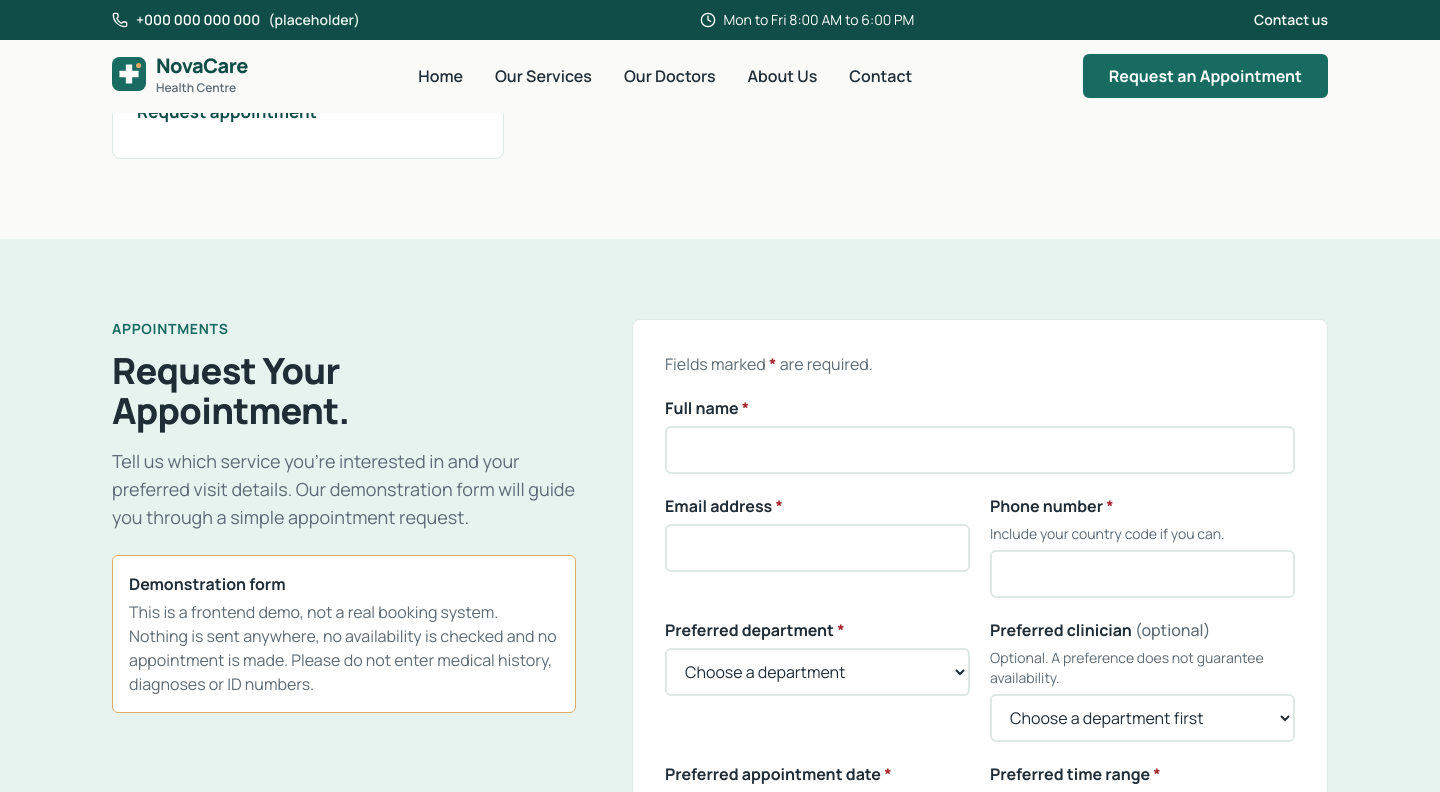
Test case: appointment form › shows inline errors and keeps entered data
The width and height of the screenshot is (1440, 792).
(page scrolled)
Type "Jane Demo" into the field labelled "Full name *" at (980, 450), box [665, 426, 1295, 474]
(page scrolled)
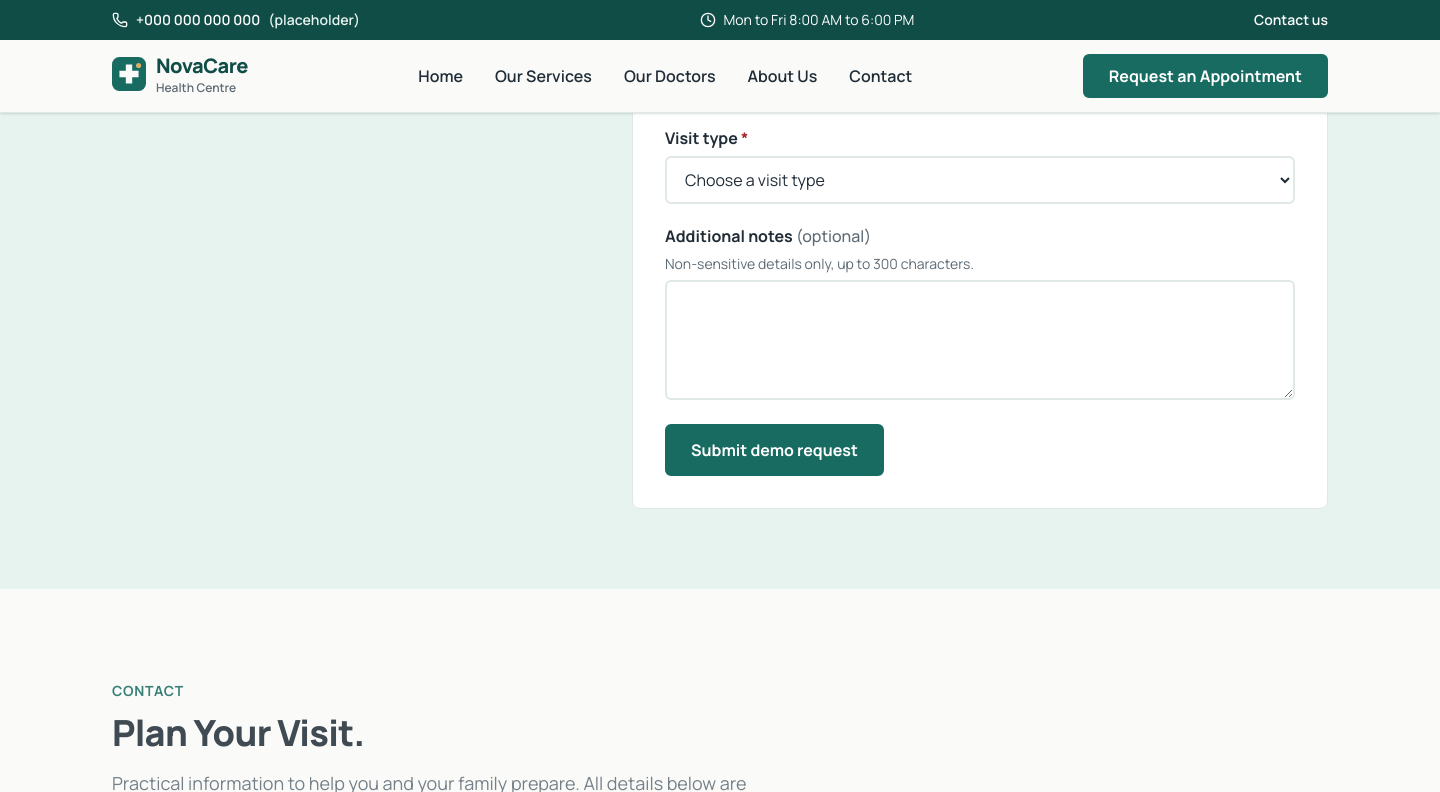
Click the button "Submit demo request" at (774, 450), box [665, 424, 884, 476]
(page scrolled)
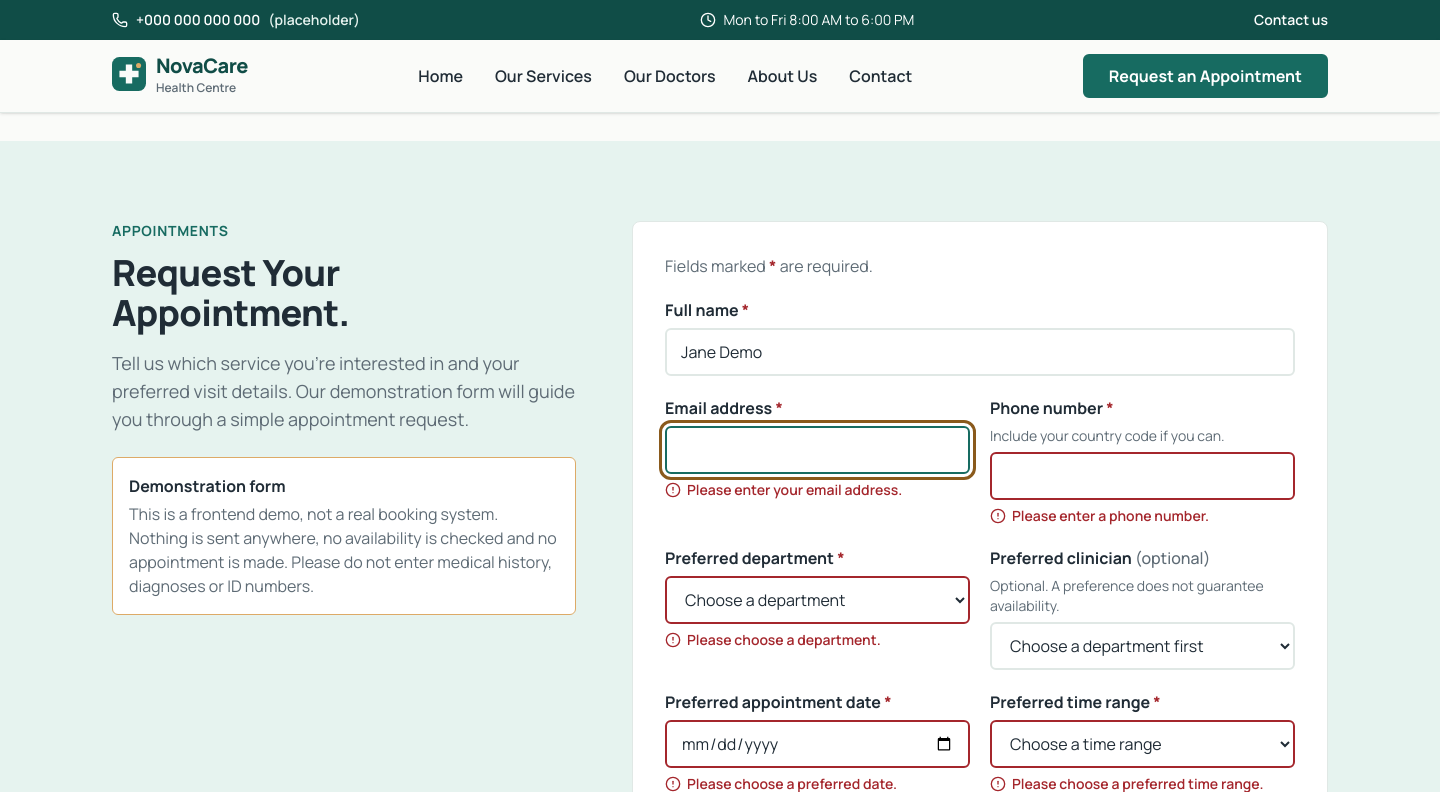
Now the text "Please enter your email address." is shown, box [687, 480, 902, 500]
